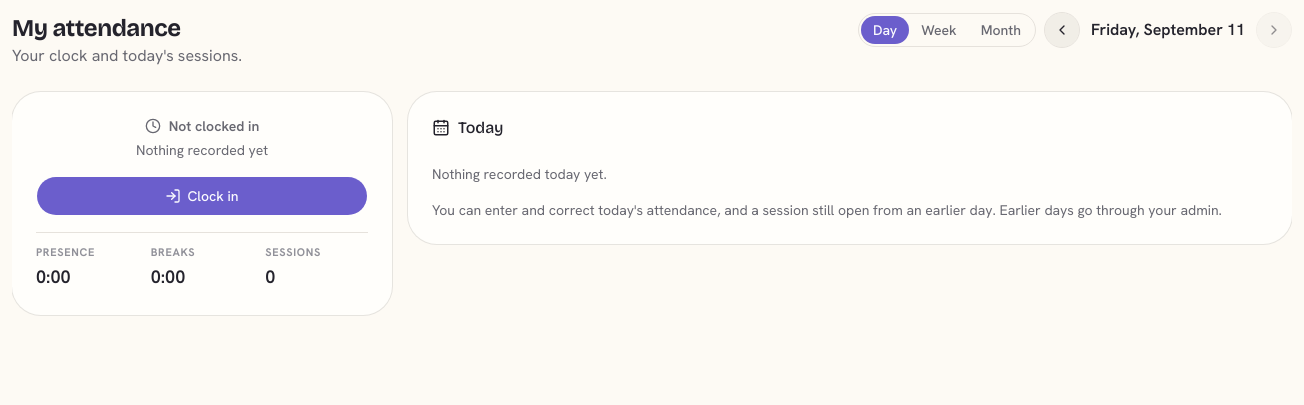
Scenario: MyAttendanceScreen › a day and the self-service window › hides the correction on a day outside the window, and says who to ask
Click the button named "Previous": click(1062, 30) [1044,12,1080,48]
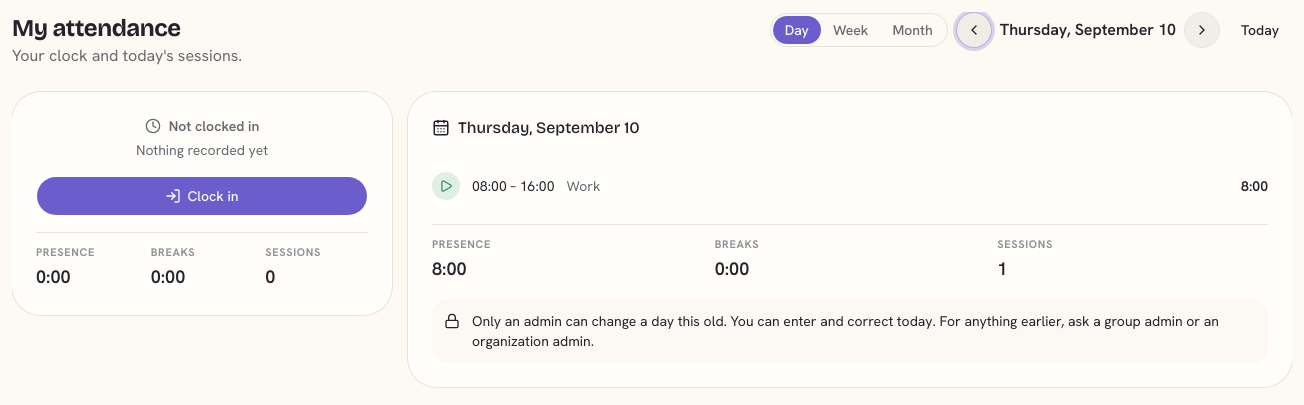
Expected: the text "Only an admin can change a day this old. You can enter and correct today. For anything earlier, ask a group admin or an " is shown, [472,312,1219,350]
